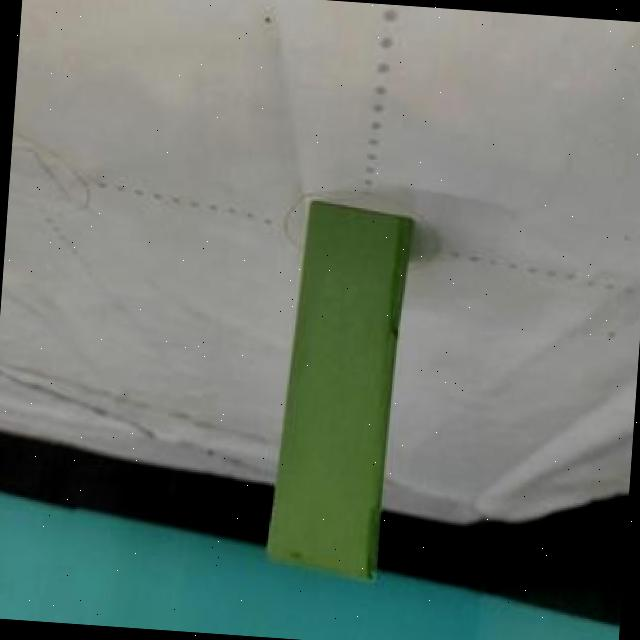greenbox: (260, 197, 414, 590)
